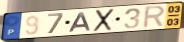3: (123, 7, 142, 29)
7: (46, 12, 66, 35)
9: (25, 14, 42, 36)
A: (67, 11, 92, 33)
R: (141, 5, 167, 30)
X: (92, 8, 116, 33)
